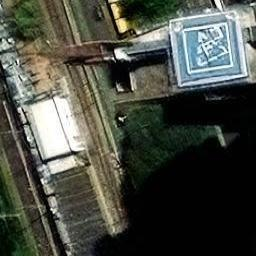heliponto: (185, 23, 233, 74)
